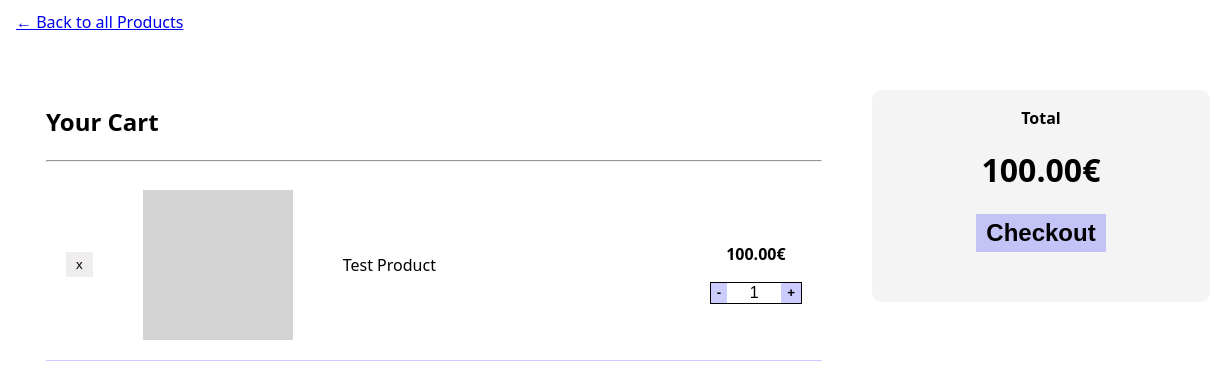
Scenario: test behaviour of quantity changes › deletes element and updates total - one product
The image size is (1227, 378).
expect the text with test id "totalAmount" reads "100.00€": met, box [982,148,1100,191]
Step 1. Click the button "x" → (79, 265), box [66,252,93,277]
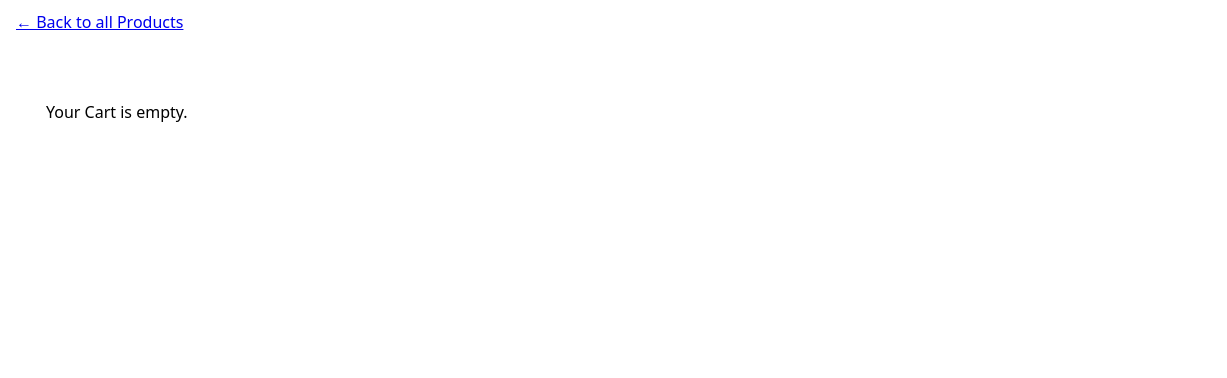
expect the text with test id "totalAmount" is gone: met
expect the element with test id "quantity-handler-0" is gone: met
